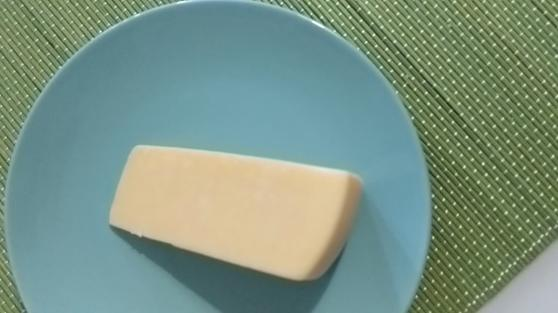cheese: (109, 143, 365, 283)
